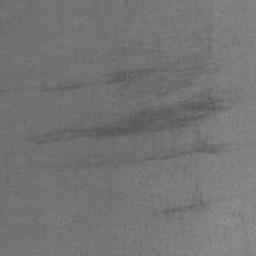Water spot: (0, 44, 215, 102), (29, 87, 234, 147), (134, 141, 227, 164), (159, 200, 212, 215)
